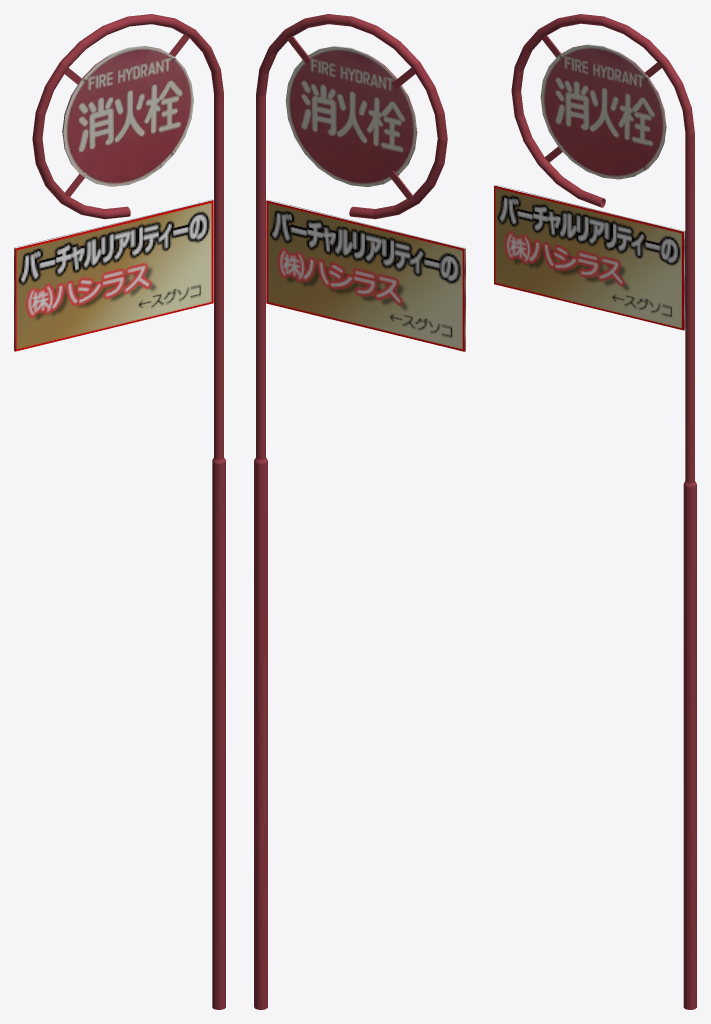
File: syouka_sen.fbx
3 views of the same model, side by side, from view 1: azimuth 30°, elevation 25°; view 2: azimuth 150°, elevation 25°; view 3: azimuth 330°, elevation 25° (orthographic). The views are drawn at different scales.
Visible parts, largest first — view 1: Empty_Mesh; view 2: Empty_Mesh; view 3: Empty_Mesh.
Part boxes in pixels (x1=…): Empty_Mesh: x1=14, y1=14, x2=225, y2=1009; Empty_Mesh: x1=254, y1=14, x2=465, y2=1009; Empty_Mesh: x1=494, y1=14, x2=696, y2=1009.
Size of the model in its own units: 1.16 by 5.34 by 0.0662.
